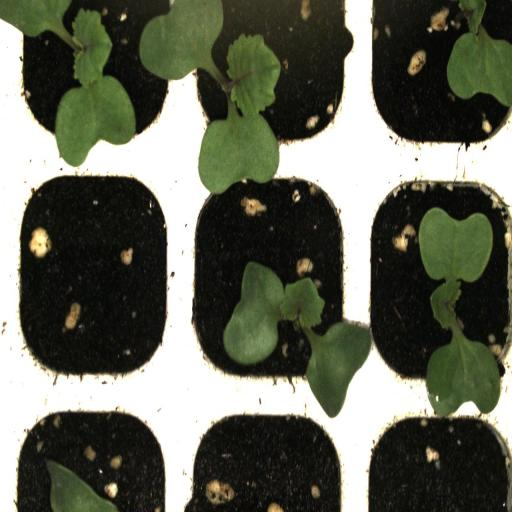Folha: (447, 0, 512, 108), (48, 461, 118, 512)
Germinacao: (185, 166, 358, 388), (359, 164, 512, 400), (10, 0, 186, 158), (186, 0, 360, 159)
